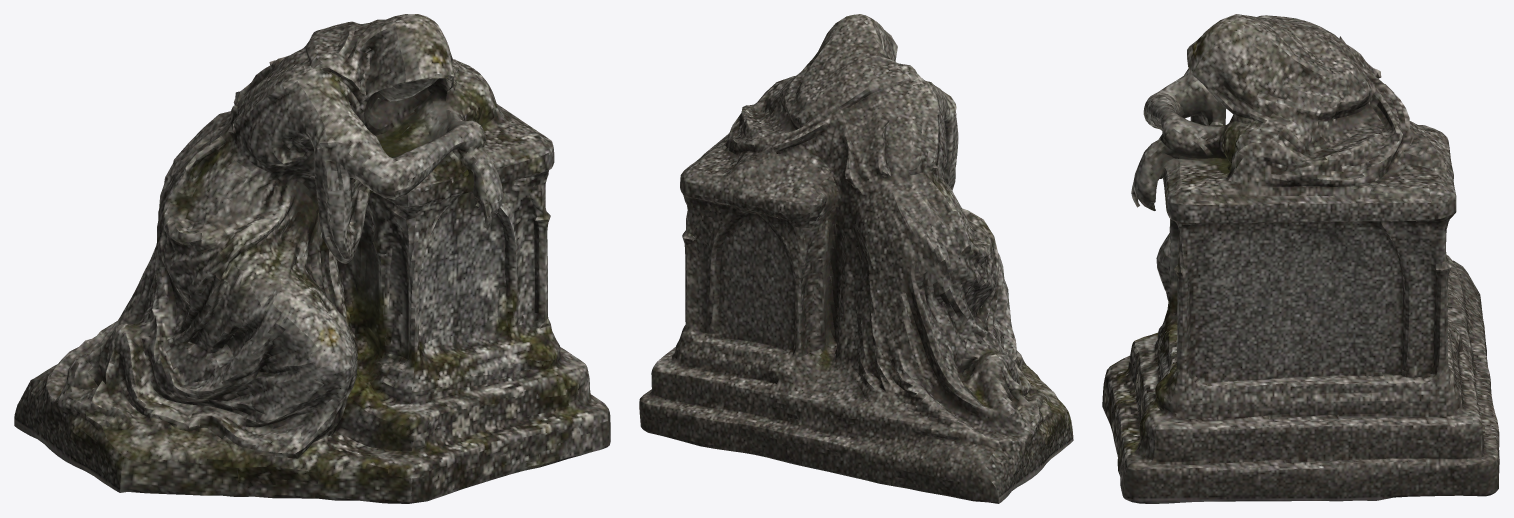
The model's file is m3-pixelated.glb.
3 views of the same model, side by side, from view 1: azimuth 30°, elevation 25°; view 2: azimuth 150°, elevation 25°; view 3: azimuth 270°, elevation 25° (orthographic). The views are drawn at different scales.
Parts seen in each view (by area): view 1: m3.glb; view 2: m3.glb; view 3: m3.glb.
Boxes of the visible parts, x1,y1,x2,y2 form: m3.glb: (14, 14, 610, 503); m3.glb: (639, 14, 1073, 503); m3.glb: (1102, 14, 1499, 503).
Size of the model in its own units: 1.86 by 1.75 by 1.51.
Materials: 1 (1 with a texture image).
